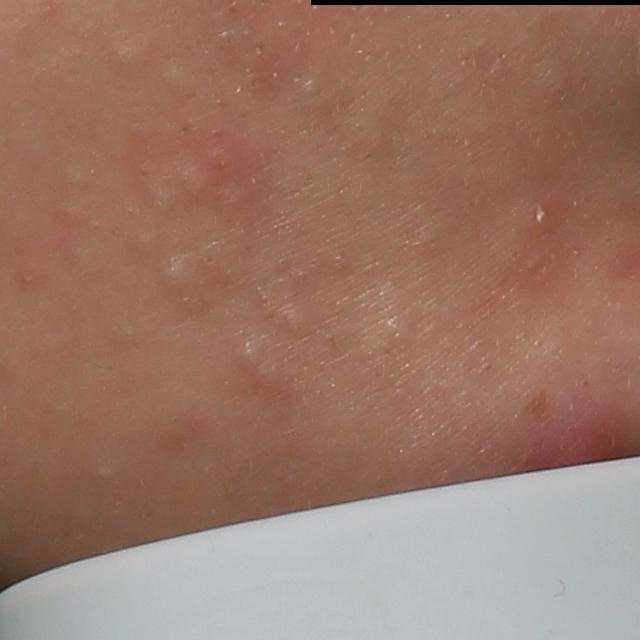comedo: (264, 298, 314, 343), (121, 224, 165, 258), (115, 41, 161, 71), (161, 255, 193, 292), (235, 342, 263, 367)
pustule: (527, 204, 553, 230)
